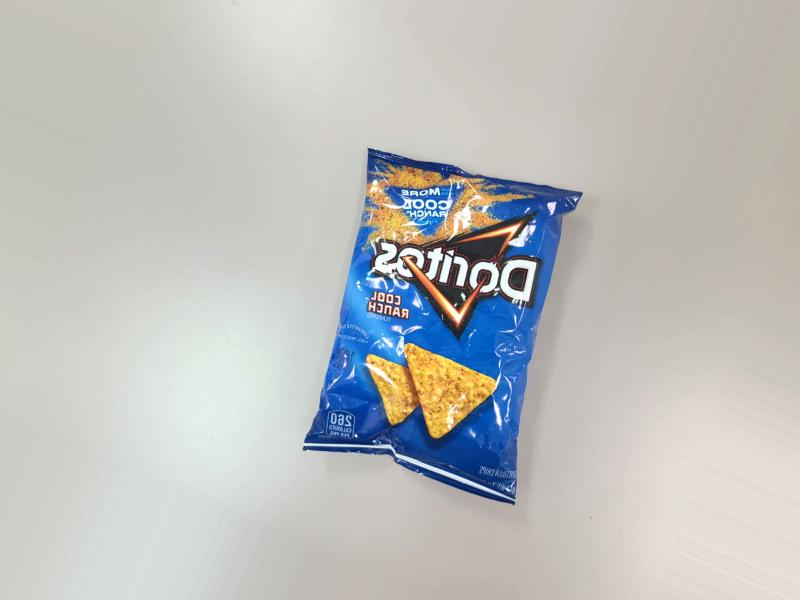doritos: (309, 142, 549, 495)
